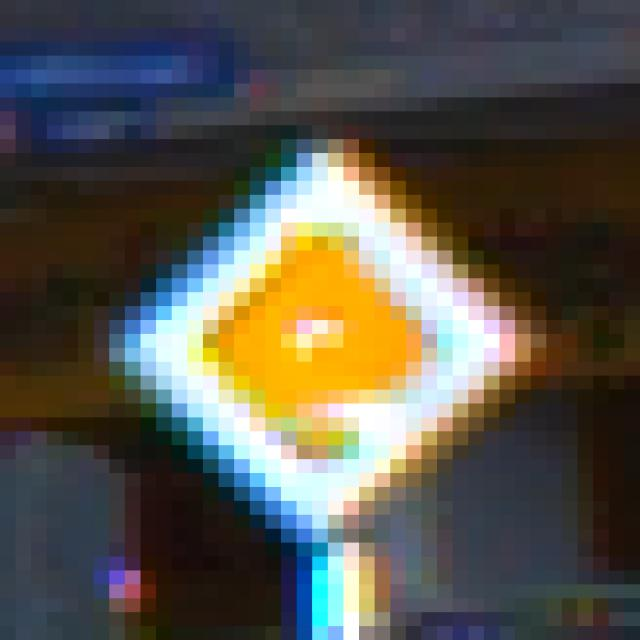Main Road: (79, 71, 563, 572)
